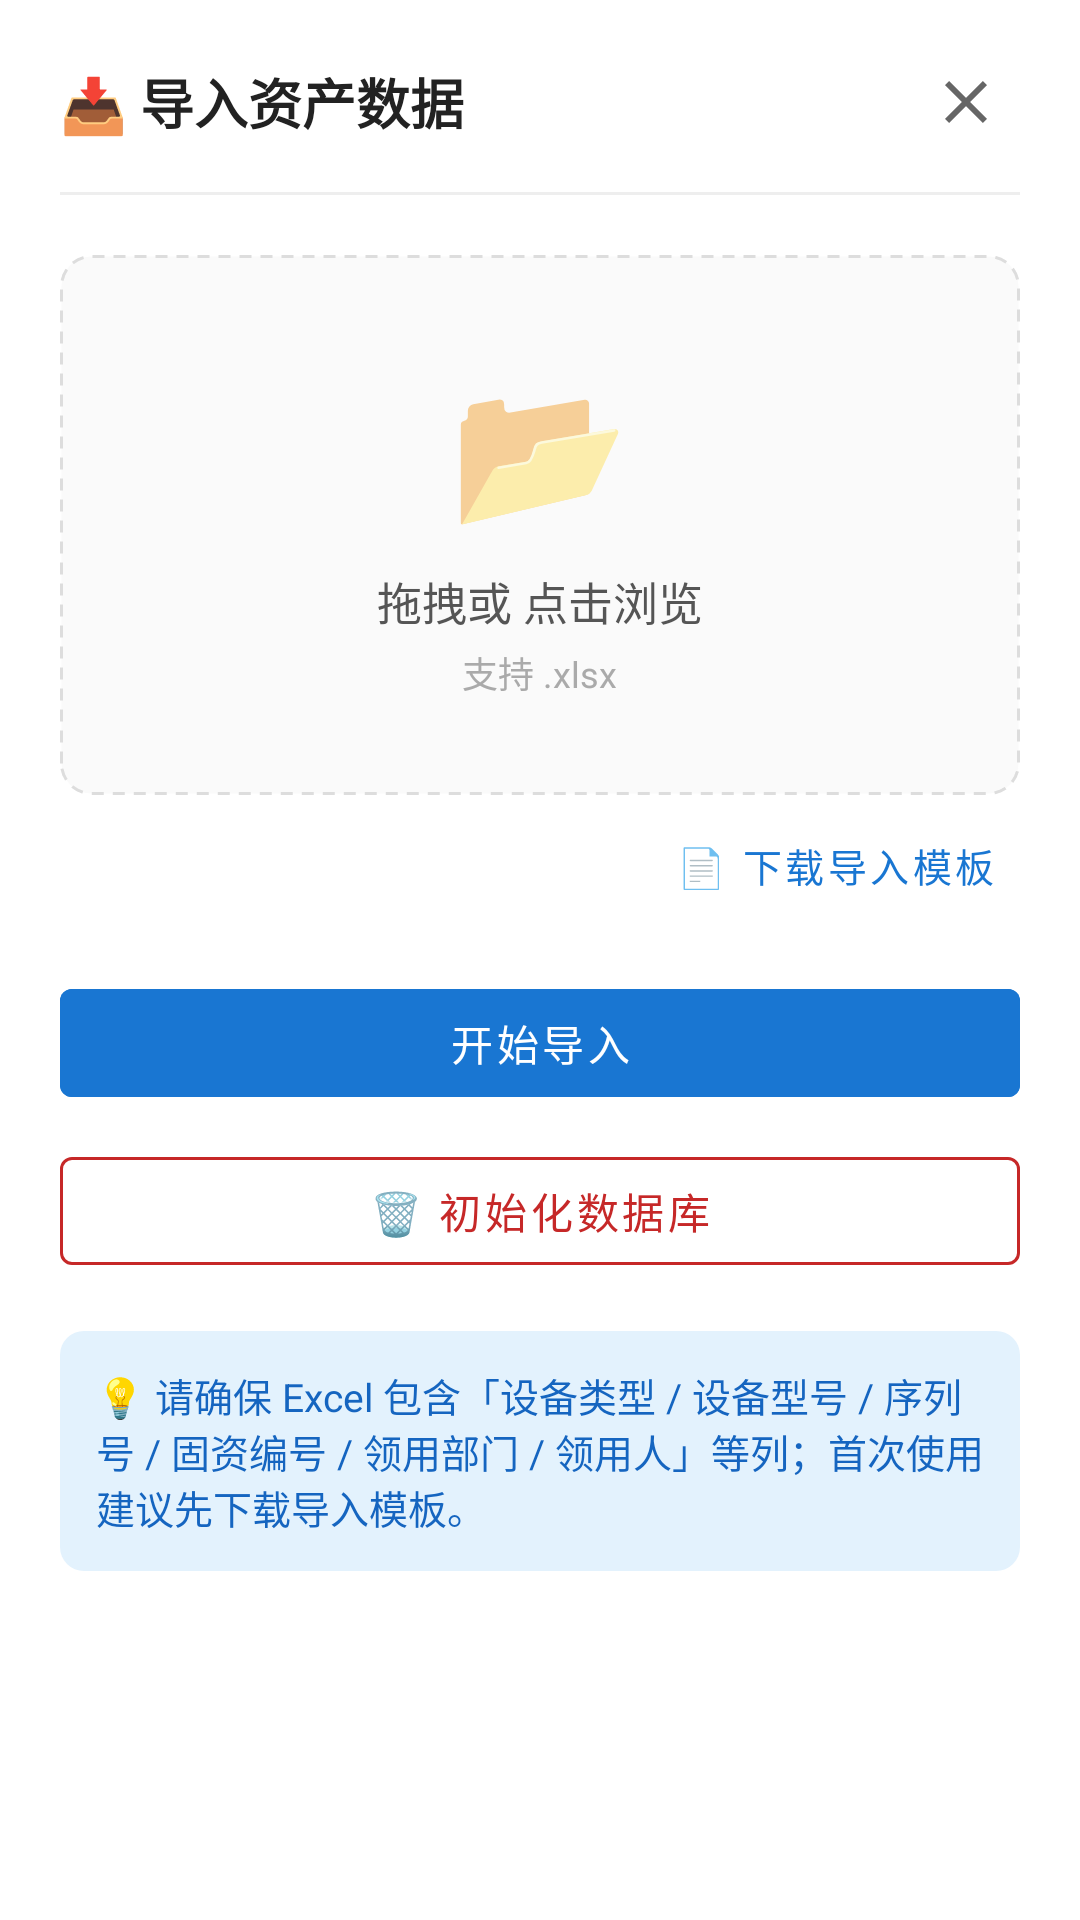

Where icons sit on this 1080 × 1920 app screen, as (x1=x1, y1=y1, x2=x2, y2=y2):
取消: (x1=945, y1=81, x2=987, y2=123)
